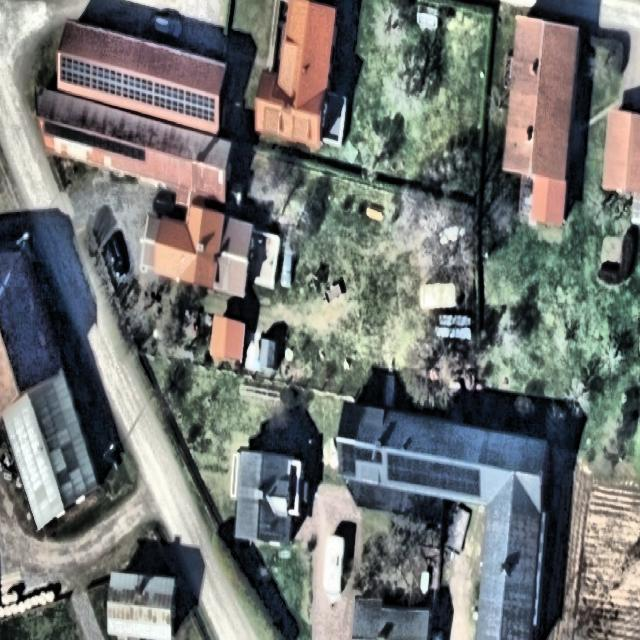roof_pv: (386, 448, 484, 505), (157, 82, 219, 129), (336, 441, 382, 479), (56, 54, 94, 93), (123, 70, 158, 112), (95, 65, 123, 97)
